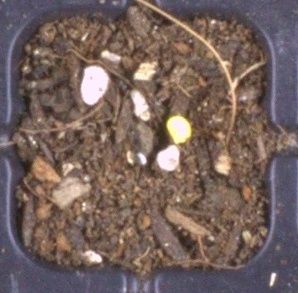chilli seed: (165, 115, 192, 145)
